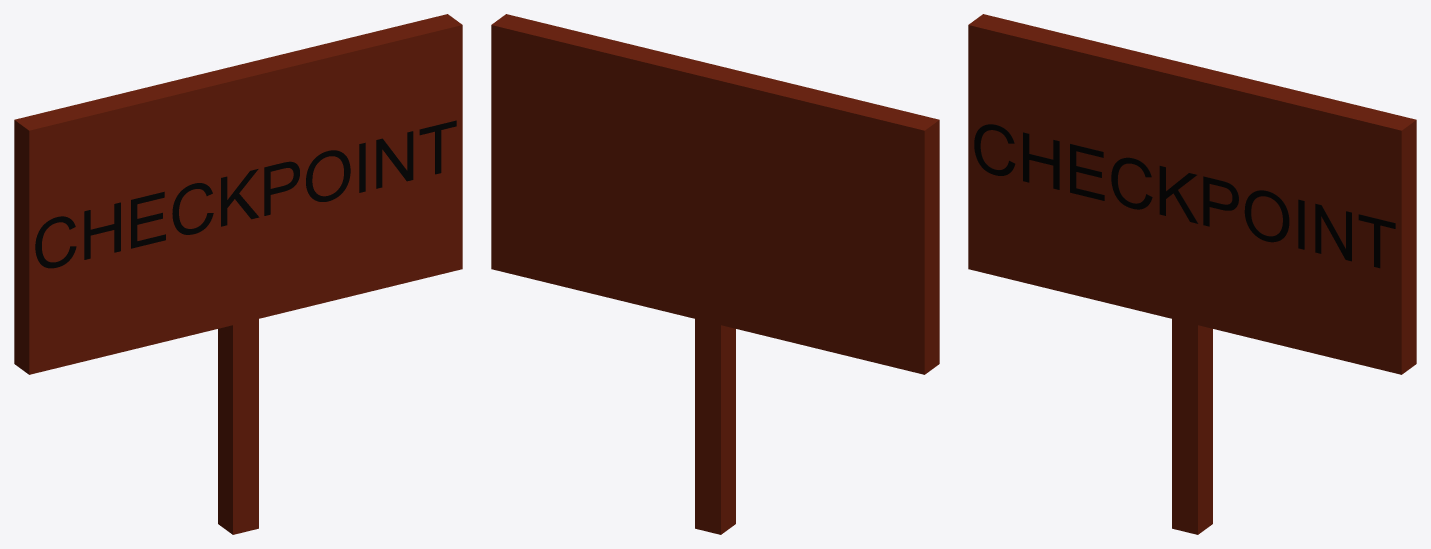
File: checkpoint.FBX
The picture shows the model from 3 angles, left to right: view 1: azimuth 30°, elevation 25°; view 2: azimuth 150°, elevation 25°; view 3: azimuth 330°, elevation 25°; orthographic projection.
Visible parts, largest first — view 1: Box002, Box001, text; view 2: Box002, Box001; view 3: Box002, Box001, text.
Part boxes in pixels (left/top/right/bottom): Box002: left=14, top=14, right=462, bottom=374; Box001: left=218, top=284, right=258, bottom=534; text: left=35, top=120, right=456, bottom=268; Box002: left=491, top=14, right=939, bottom=374; Box001: left=695, top=284, right=735, bottom=534; Box002: left=968, top=14, right=1416, bottom=374; Box001: left=1172, top=284, right=1212, bottom=534; text: left=974, top=124, right=1395, bottom=268.
Bounding box in the file's own units: 65.83 × 65.88 × 3.99.
